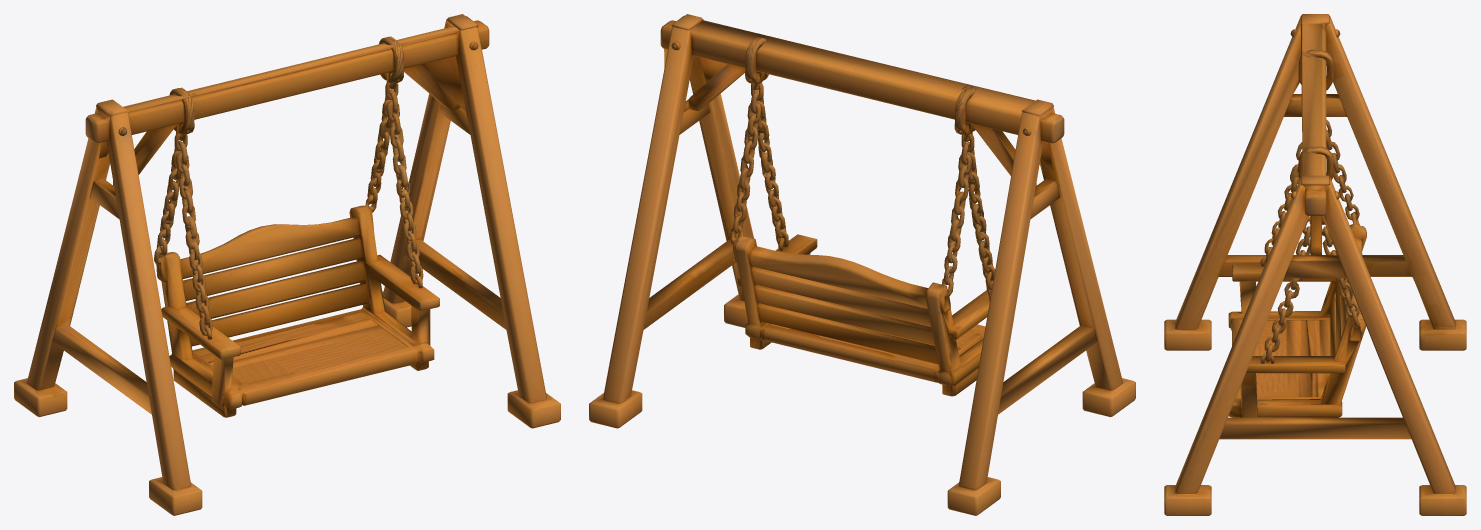
Rendered from Outdoor__a_wooden_swing_set_5251929e_v3.cluster.glb.
3 views of the same model, side by side, from view 1: azimuth 30°, elevation 25°; view 2: azimuth 150°, elevation 25°; view 3: azimuth 270°, elevation 25° (orthographic). The views are drawn at different scales.
Parts seen in each view (by area): view 1: material; view 2: material; view 3: material.
Part boxes in pixels (<box>): material: <box>14,14,560,515</box>; material: <box>589,14,1135,515</box>; material: <box>1164,14,1466,515</box>.
Size of the model in its own units: 1.9 by 1.61 by 1.34.
Materials: 1 (1 with a texture image).
